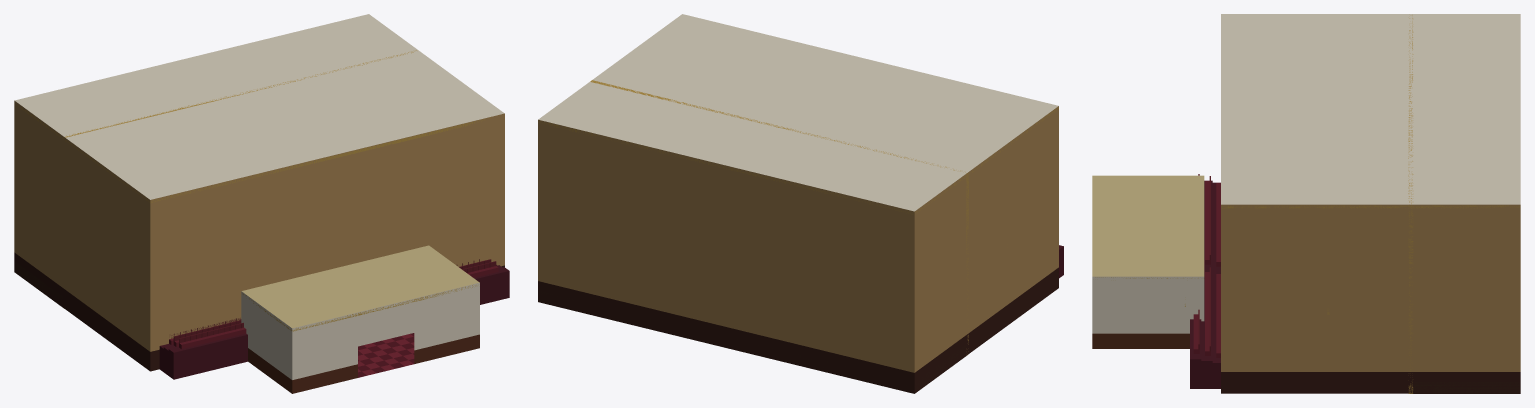
Rendered from adler_int.glb.
3 renders of one model, left to right at view 1: azimuth 30°, elevation 25°; view 2: azimuth 150°, elevation 25°; view 3: azimuth 270°, elevation 25°, orthographic. The views are drawn at different scales.
Visible parts, largest first — view 1: adler_int; view 2: adler_int; view 3: adler_int.
Boxes of the visible parts, box(x1,y1,x2,y2) form: adler_int: box(14, 14, 509, 393); adler_int: box(538, 14, 1063, 393); adler_int: box(1092, 14, 1520, 393).
Size of the model in its own units: 37.8 by 17.5 by 35.9.
